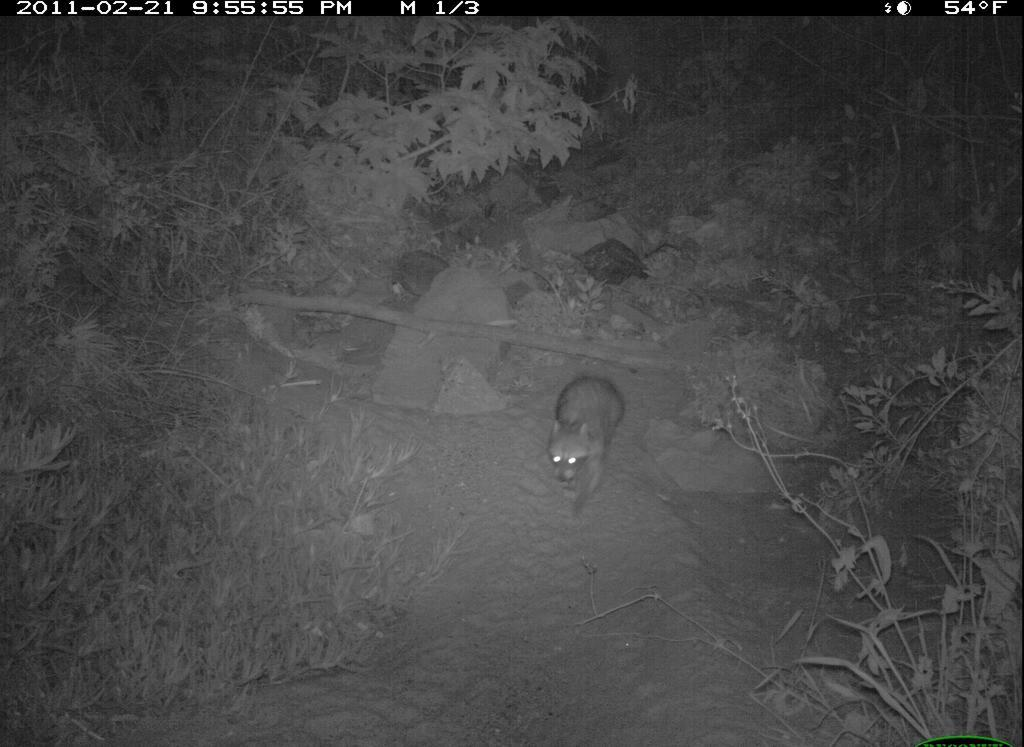raccoon: (545, 370, 629, 518)
